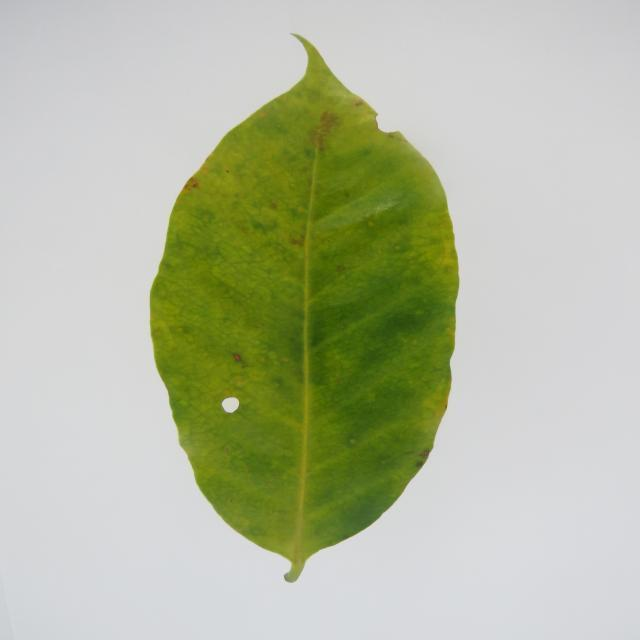DeficienciaNutricional-Nitrogeno: (150, 36, 458, 582)
